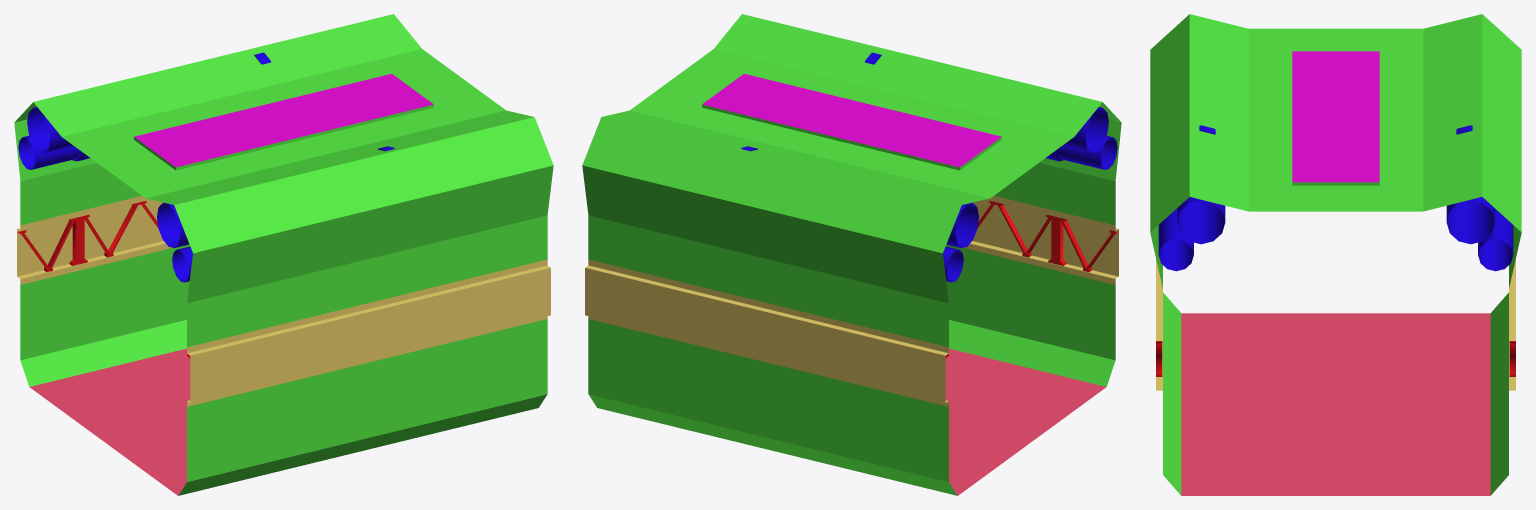
Rendered from GANG.fbx.
3 renders of one model, left to right at view 1: azimuth 30°, elevation 25°; view 2: azimuth 150°, elevation 25°; view 3: azimuth 270°, elevation 25°, orthographic. The views are drawn at different scales.
Visible parts, largest first — view 1: Stairs__1_.012, Stairs__1_.021, Stairs__1_.020; view 2: Stairs__1_.012, Stairs__1_.021, Stairs__1_.020; view 3: Stairs__1_.012, Stairs__1_.020, Stairs__1_.021.
Boxes of the visible parts, left/top/right/bottom form: Stairs__1_.012: left=14, top=14, right=553, bottom=495; Stairs__1_.021: left=17, top=196, right=550, bottom=406; Stairs__1_.020: left=18, top=52, right=394, bottom=282; Stairs__1_.012: left=582, top=14, right=1121, bottom=495; Stairs__1_.021: left=585, top=196, right=1118, bottom=406; Stairs__1_.020: left=741, top=52, right=1117, bottom=282; Stairs__1_.012: left=1150, top=14, right=1521, bottom=495; Stairs__1_.020: left=1158, top=125, right=1513, bottom=271; Stairs__1_.021: left=1156, top=259, right=1515, bottom=390.
Bounding box in the file's own units: 10 × 7.63 × 8.59.
